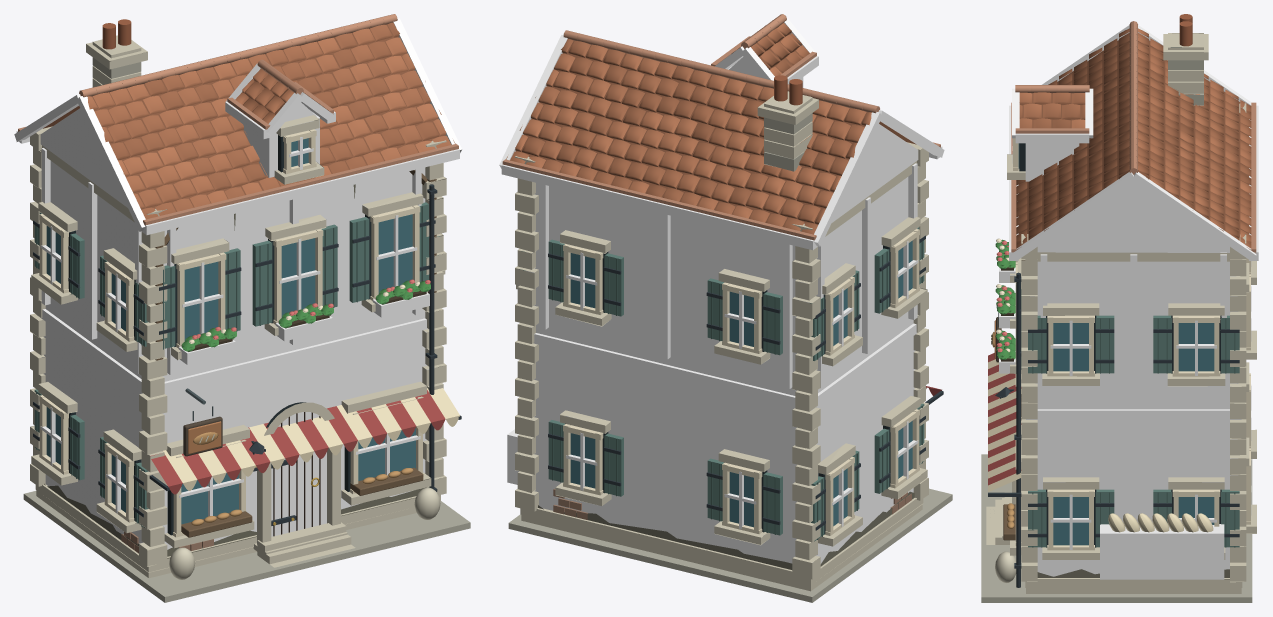
Rendered from baker_house.glb.
3 views of the same model, side by side, from view 1: azimuth 30°, elevation 25°; view 2: azimuth 150°, elevation 25°; view 3: azimuth 270°, elevation 25° (orthographic). The views are drawn at different scales.
Visible parts, largest first — view 1: SourceMesh_00005, SourceMesh_00097, SourceMesh_00000, SourceMesh_00088, SourceMesh_00084, SourceMesh_00151, SourceMesh_00089, SourceMesh_00091, SourceMesh_00006, SourceMesh_00090, SourceMesh_00241, SourceMesh_00279 (+47 smaller); view 2: SourceMesh_00005, SourceMesh_00097, SourceMesh_00085, SourceMesh_00000, SourceMesh_00006, SourceMesh_00084, SourceMesh_00086, SourceMesh_00091, SourceMesh_00001, SourceMesh_00087, SourceMesh_00144, SourceMesh_00092 (+37 smaller); view 3: SourceMesh_00005, SourceMesh_00097, SourceMesh_00094, SourceMesh_00562, SourceMesh_00000, SourceMesh_00085, SourceMesh_00144, SourceMesh_00088, SourceMesh_00084, SourceMesh_00006, SourceMesh_00007, SourceMesh_00095 (+42 smaller).
Part boxes in pixels (bbox=[...]): SourceMesh_00005: bbox=[41, 161, 434, 549]; SourceMesh_00097: bbox=[87, 22, 455, 219]; SourceMesh_00000: bbox=[23, 491, 470, 602]; SourceMesh_00088: bbox=[92, 24, 445, 211]; SourceMesh_00084: bbox=[36, 309, 427, 396]; SourceMesh_00151: bbox=[271, 412, 326, 536]; SourceMesh_00089: bbox=[142, 149, 459, 235]; SourceMesh_00091: bbox=[40, 108, 127, 207]; SourceMesh_00006: bbox=[35, 484, 440, 572]; SourceMesh_00090: bbox=[143, 144, 458, 225]; SourceMesh_00241: bbox=[281, 238, 315, 317]; SourceMesh_00279: bbox=[378, 214, 412, 293]; SourceMesh_00005: bbox=[526, 177, 915, 563]; SourceMesh_00097: bbox=[506, 39, 871, 234]; SourceMesh_00085: bbox=[516, 41, 867, 226]; SourceMesh_00000: bbox=[508, 488, 952, 602]; SourceMesh_00006: bbox=[520, 498, 923, 585]; SourceMesh_00084: bbox=[533, 323, 916, 410]; SourceMesh_00086: bbox=[501, 164, 817, 250]; SourceMesh_00091: bbox=[832, 124, 918, 222]; SourceMesh_00001: bbox=[521, 504, 922, 591]; SourceMesh_00087: bbox=[502, 159, 816, 240]; SourceMesh_00144: bbox=[731, 23, 809, 76]; SourceMesh_00092: bbox=[814, 112, 881, 246]; SourceMesh_00005: bbox=[1029, 252, 1238, 576]; SourceMesh_00097: bbox=[1016, 28, 1251, 250]; SourceMesh_00094: bbox=[1037, 181, 1229, 252]; SourceMesh_00562: bbox=[1100, 524, 1224, 579]; SourceMesh_00000: bbox=[981, 454, 1252, 602]; SourceMesh_00085: bbox=[1138, 40, 1248, 240]; SourceMesh_00144: bbox=[1019, 92, 1085, 128]; SourceMesh_00088: bbox=[1018, 40, 1129, 240]; SourceMesh_00084: bbox=[1026, 409, 1241, 419]; SourceMesh_00006: bbox=[1025, 578, 1242, 587]; SourceMesh_00007: bbox=[1025, 252, 1241, 261]; SourceMesh_00095: bbox=[1131, 172, 1256, 260].
Size of the model in its own units: 6.46 by 9.12 by 4.91.
